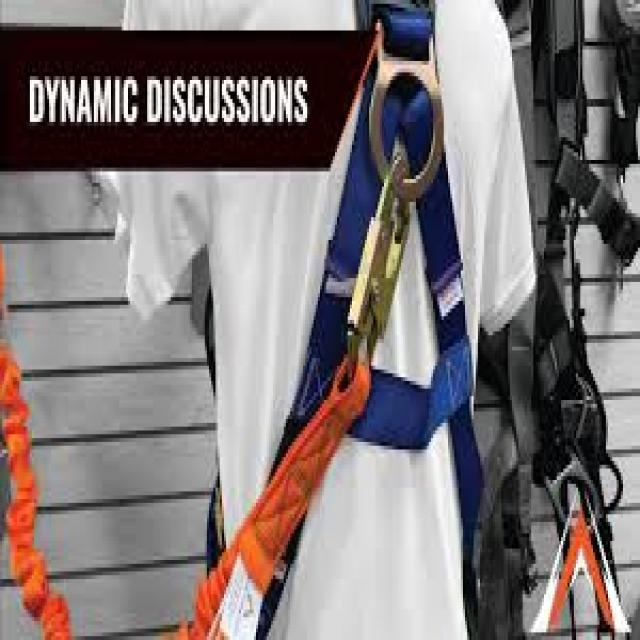harness: (0, 156, 424, 640)
